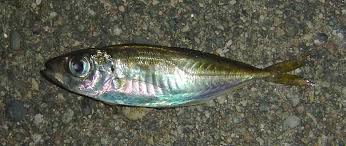azi: (39, 41, 306, 110)
